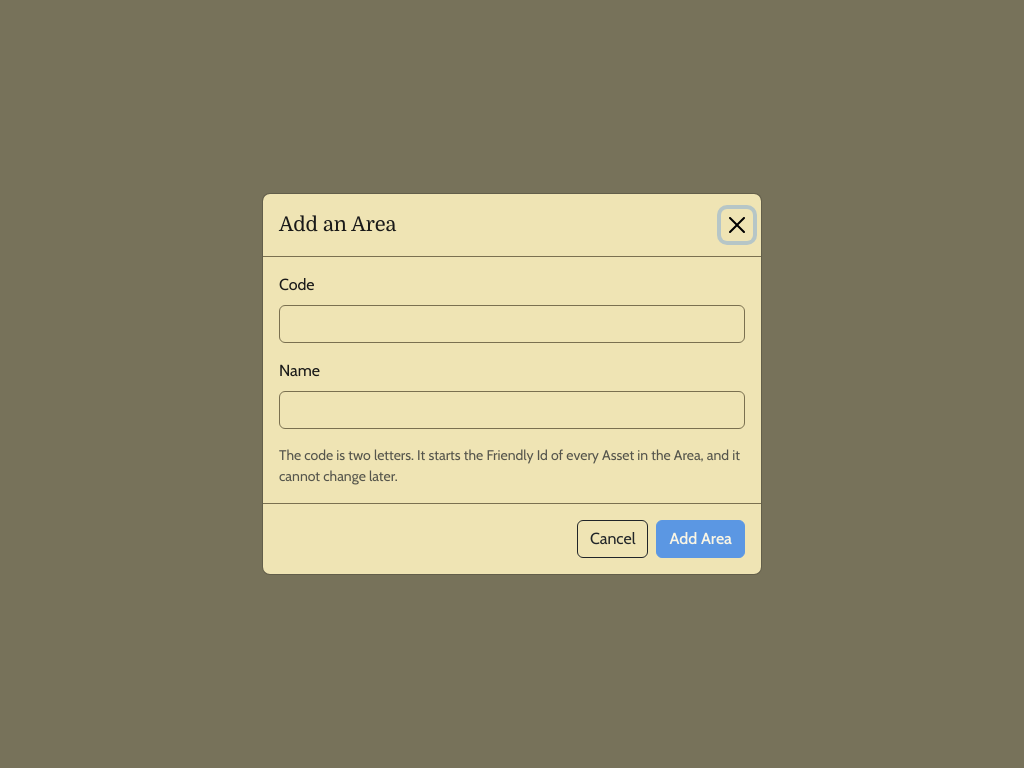
it: shows why the API refused the area
The width and height of the screenshot is (1024, 768).
In the field labelled "Code": (512, 324) left=279, top=305, right=745, bottom=343, type "mn"
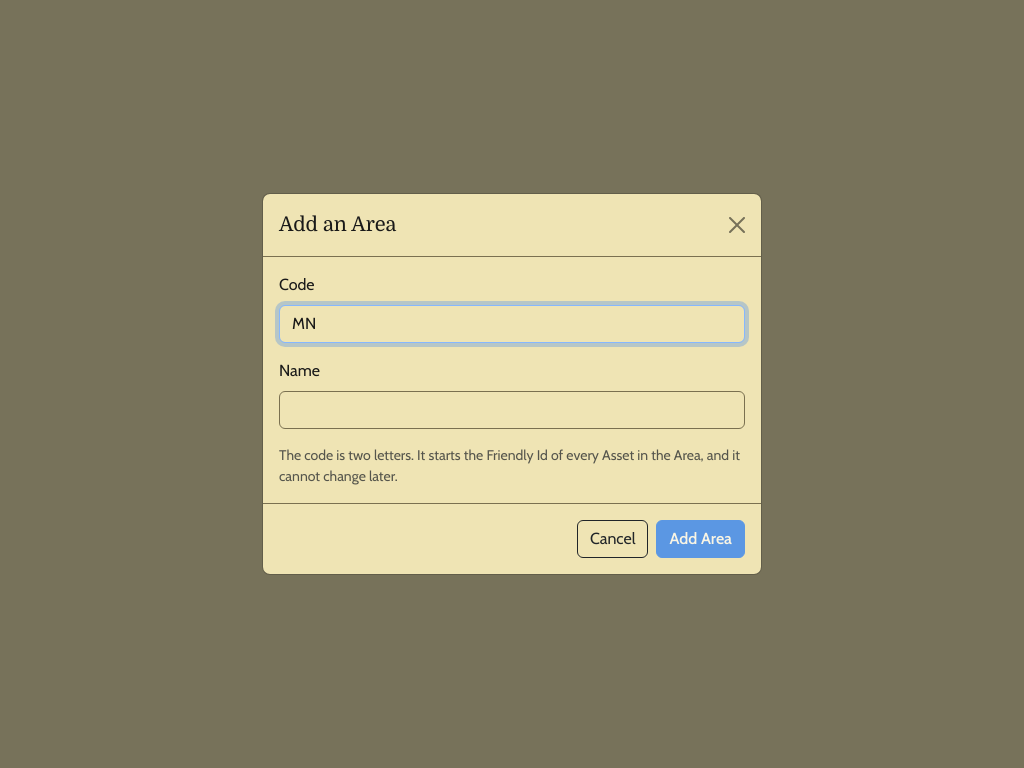
In the field labelled "Name": (512, 410) left=279, top=391, right=745, bottom=429, type "Manukau"
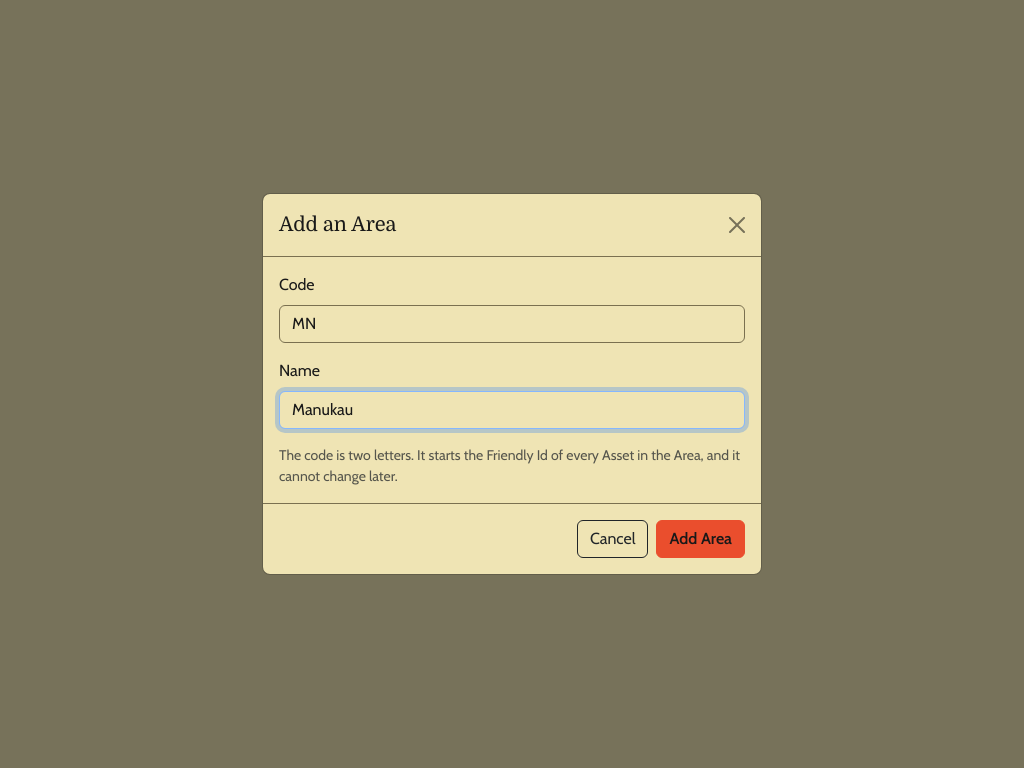
Click the button "Add Area": (701, 539) left=656, top=520, right=745, bottom=558
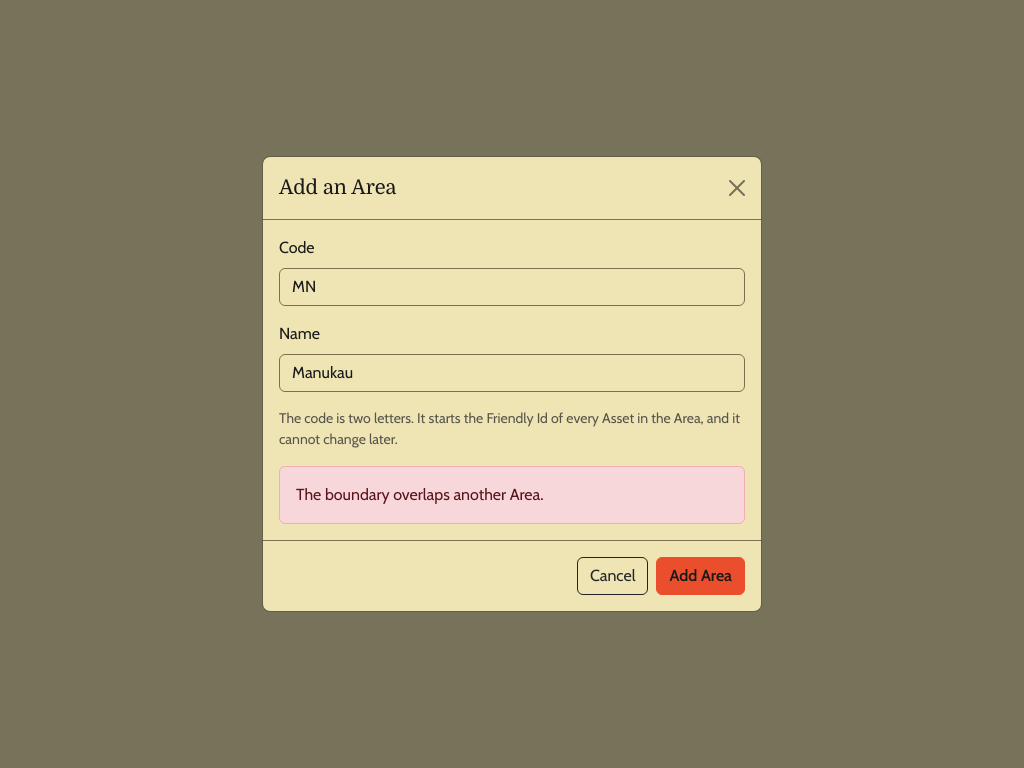
expect the message reads "The boundary overlaps another Area.": met, box left=296, top=485, right=544, bottom=504
